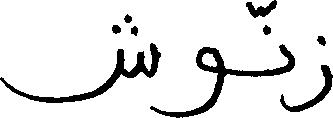X: (0, 9, 156, 116), (158, 42, 221, 117), (296, 31, 332, 116), (282, 39, 294, 116)
